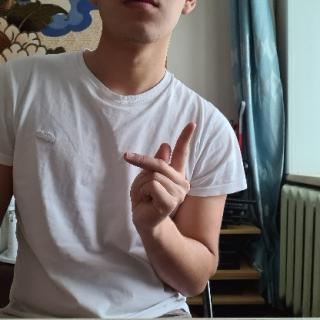DHAA: (121, 118, 196, 238)
